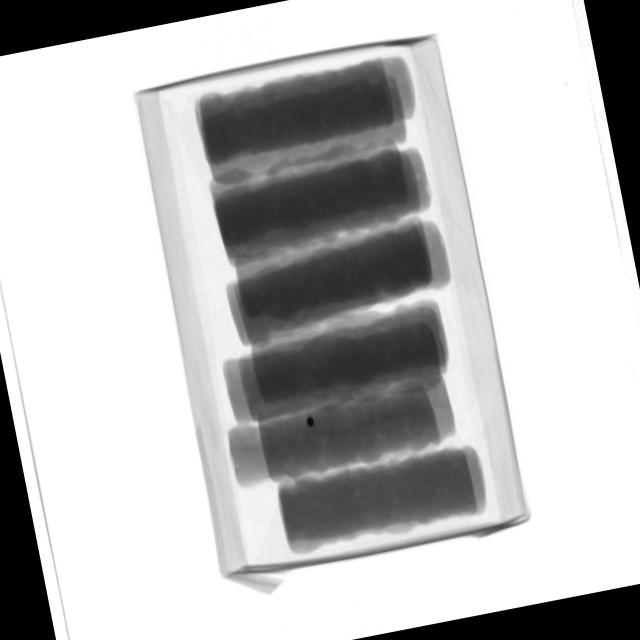ym: (306, 417, 316, 428)
